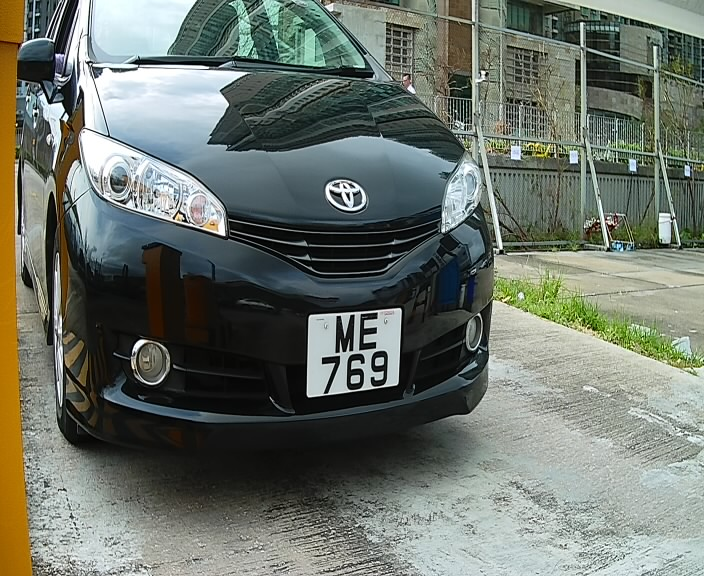Car: (5, 2, 536, 480)
License Plate: (297, 301, 414, 405)
